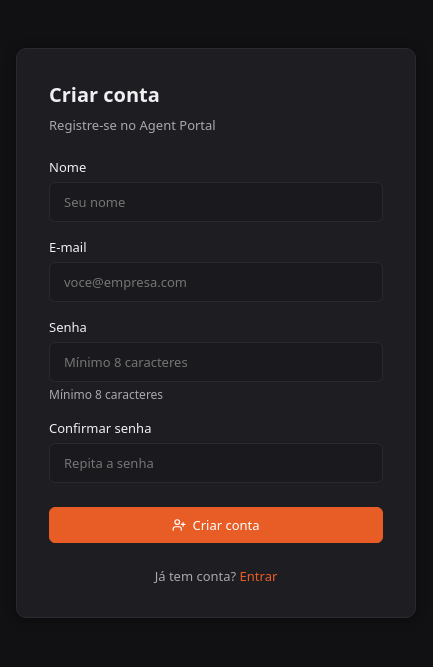
it: RegisterPage › shows validation error for short password
Type "test@test.com" into the field labelled "E-mail" at (216, 282), box [49,262,383,302]
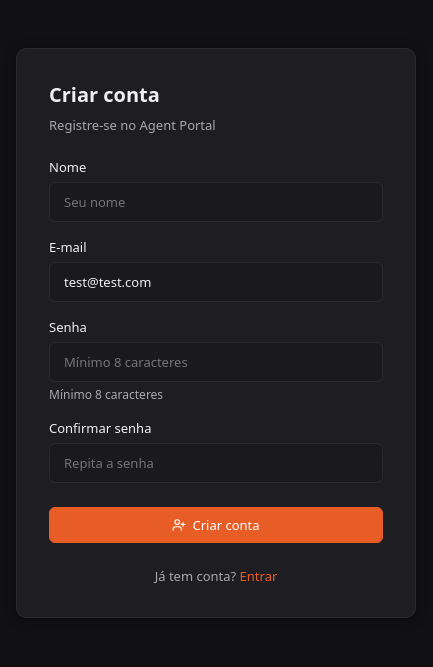
Type "123" into the password field labelled "Senha" at (216, 362), box [49,342,383,382]
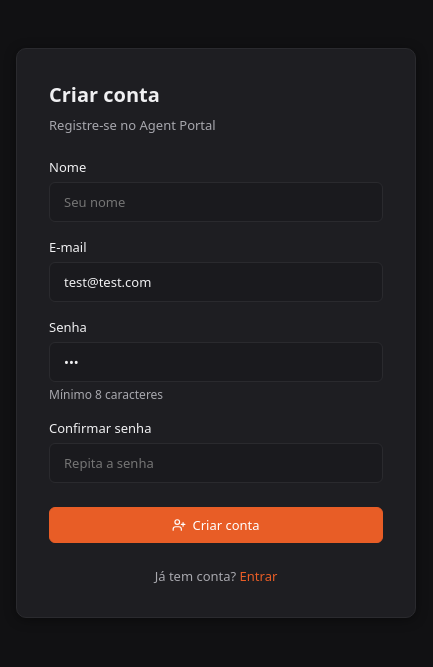
Click the button "Criar conta" at (216, 525), box [49,507,383,543]
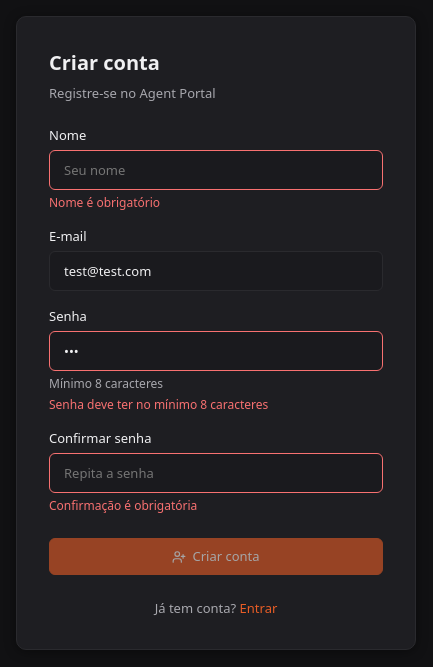
Check: the text "Senha deve ter no mínimo 8 caracteres" is shown, box [49,396,268,413]
